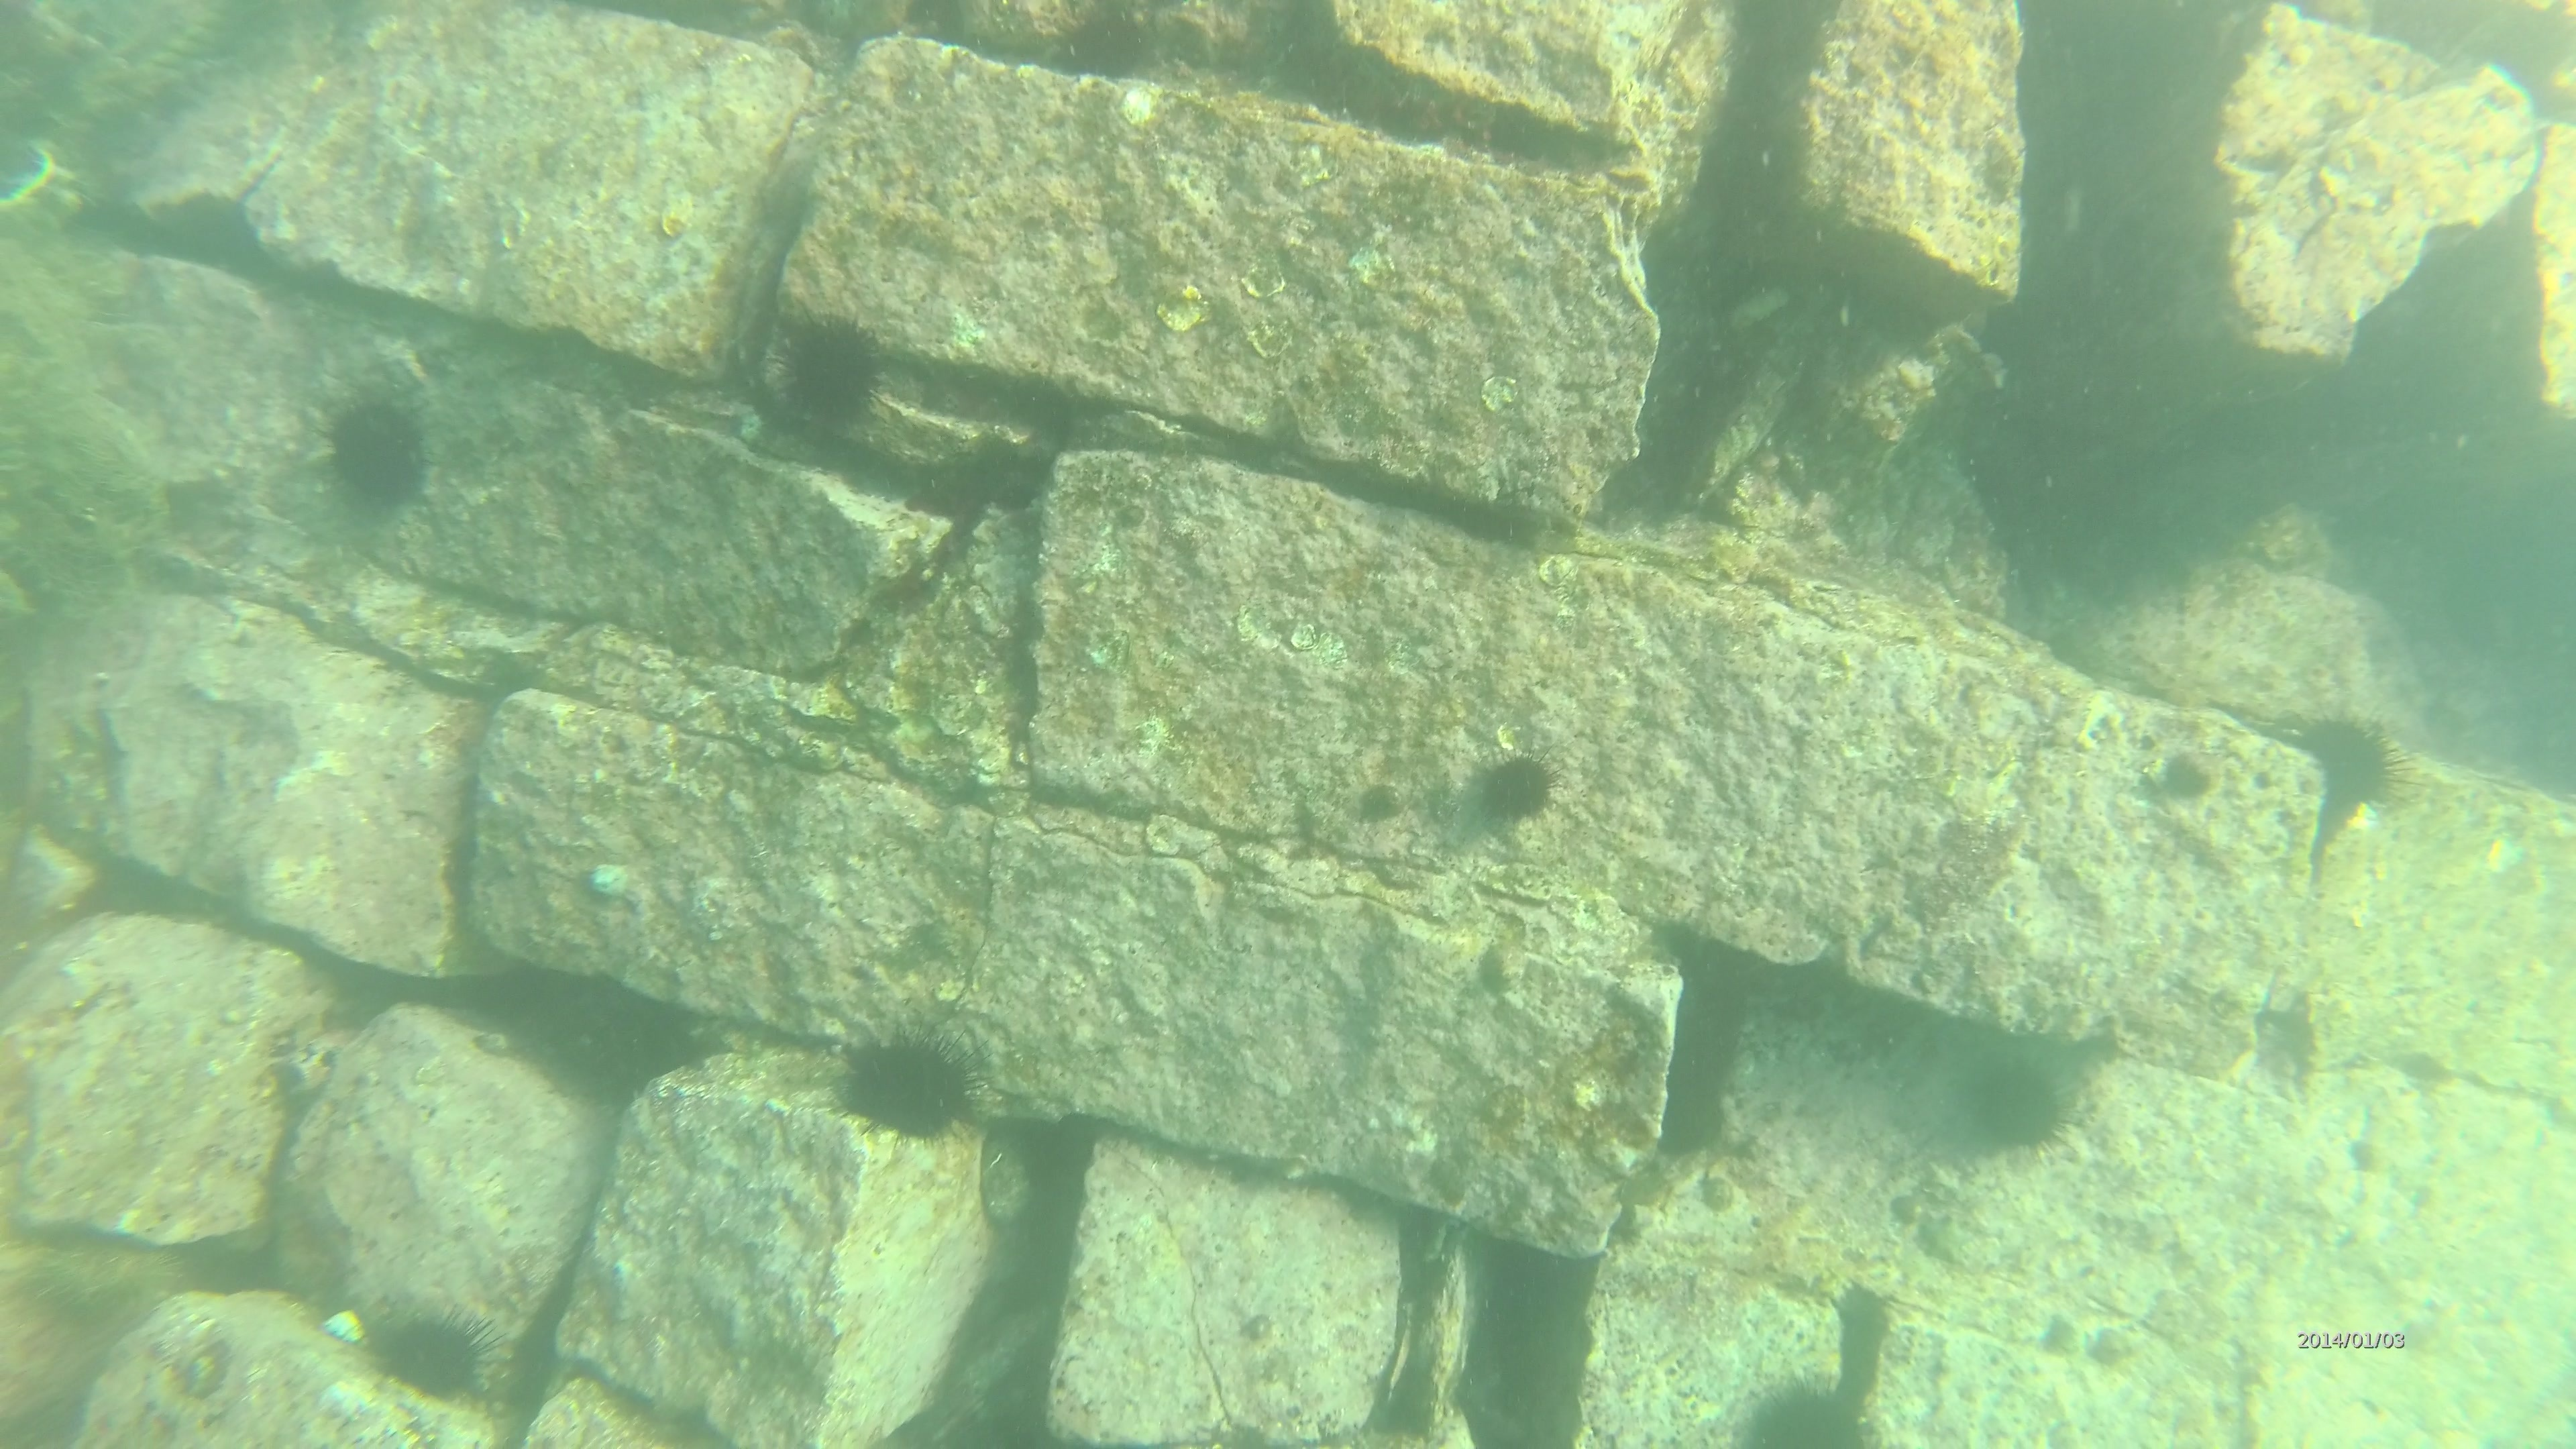echinus: (770, 297, 902, 442), (847, 1030, 994, 1157), (2284, 706, 2426, 823), (324, 391, 444, 522), (366, 1304, 518, 1407), (1976, 1063, 2089, 1161), (1743, 1375, 1882, 1449), (1067, 0, 1162, 83), (1481, 741, 1568, 823)
